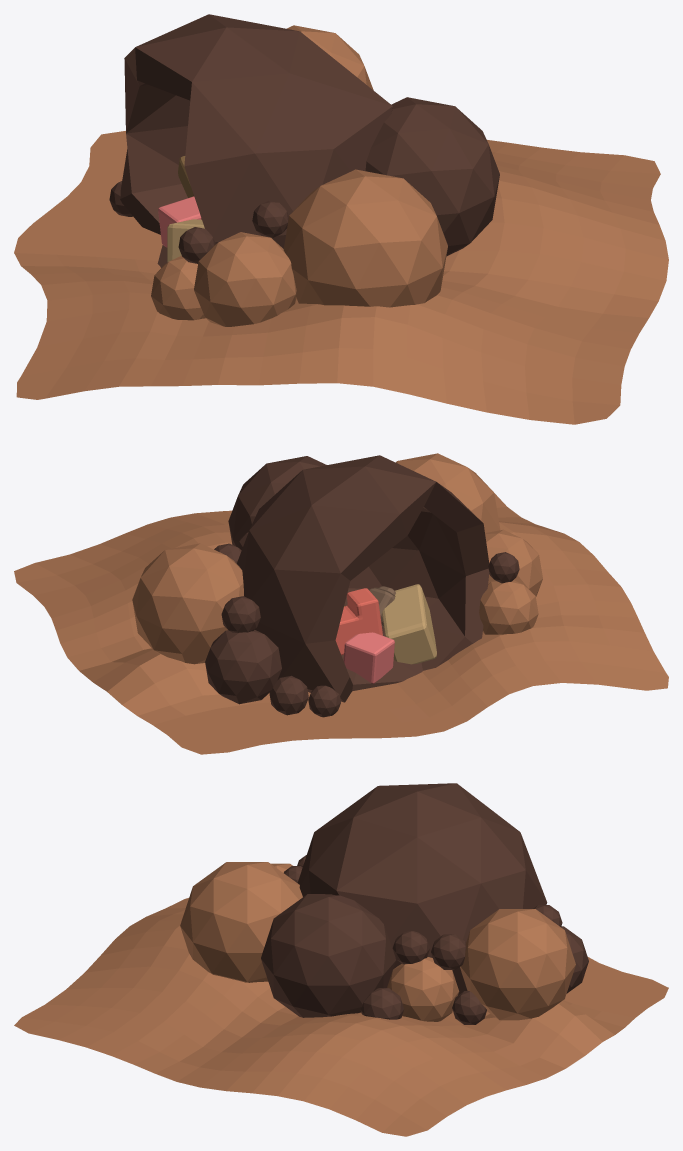
File: Burrow_Model.fbx
3 renders of one model, top to bottom at view 1: azimuth 30°, elevation 25°; view 2: azimuth 150°, elevation 25°; view 3: azimuth 270°, elevation 25°, orthographic. The views are drawn at different scales.
Visible parts, largest first — view 1: Plane.002, Icosphere.002, Icosphere.013, Icosphere.006, Icosphere.015, Icosphere.014, Icosphere.003, Icosphere.017, Cube.048, Icosphere.016, Cube.047; view 2: Plane.002, Icosphere.002, Icosphere.003, Icosphere.004, Cube.047, Icosphere.013, Icosphere.006, Icosphere.014, Cube.048, Icosphere.015, Cube.014, Icosphere.012 (+3 smaller); view 3: Plane.002, Icosphere.002, Icosphere.006, Icosphere.003, Icosphere.013, Icosphere.005, Icosphere.008, Icosphere.011, Icosphere.010, Icosphere.007, Icosphere.004.
Boxes of the visible parts, box(x1,y1,x2,y2) form: Plane.002: box(14, 131, 668, 424); Icosphere.002: box(120, 14, 392, 267); Icosphere.013: box(283, 169, 447, 307); Icosphere.006: box(365, 97, 499, 256); Icosphere.015: box(194, 232, 296, 326); Icosphere.014: box(151, 255, 205, 320); Icosphere.003: box(287, 25, 373, 90); Icosphere.017: box(252, 201, 288, 237); Cube.048: box(158, 196, 201, 247); Icosphere.016: box(178, 227, 215, 263); Cube.047: box(167, 219, 204, 262); Plane.002: box(14, 493, 668, 754); Icosphere.002: box(237, 455, 489, 702); Icosphere.003: box(132, 543, 243, 664); Icosphere.004: box(205, 630, 281, 704); Cube.047: box(382, 584, 436, 664); Icosphere.013: box(396, 453, 500, 532); Icosphere.006: box(228, 456, 326, 546); Icosphere.014: box(479, 580, 538, 634); Cube.048: box(343, 632, 394, 683); Icosphere.015: box(485, 529, 542, 596); Cube.014: box(335, 588, 382, 655); Icosphere.012: box(269, 675, 308, 715); Plane.002: box(14, 898, 668, 1136); Icosphere.002: box(297, 783, 547, 995); Icosphere.006: box(261, 894, 396, 1017); Icosphere.003: box(460, 909, 575, 1020); Icosphere.013: box(180, 862, 302, 982); Icosphere.005: box(387, 957, 459, 1021); Icosphere.008: box(360, 988, 404, 1019); Icosphere.011: box(431, 934, 466, 969); Icosphere.010: box(392, 931, 429, 964); Icosphere.007: box(452, 991, 486, 1024); Icosphere.004: box(561, 926, 588, 993).
Bounding box in the file's own units: 1099 × 383 × 1119.
